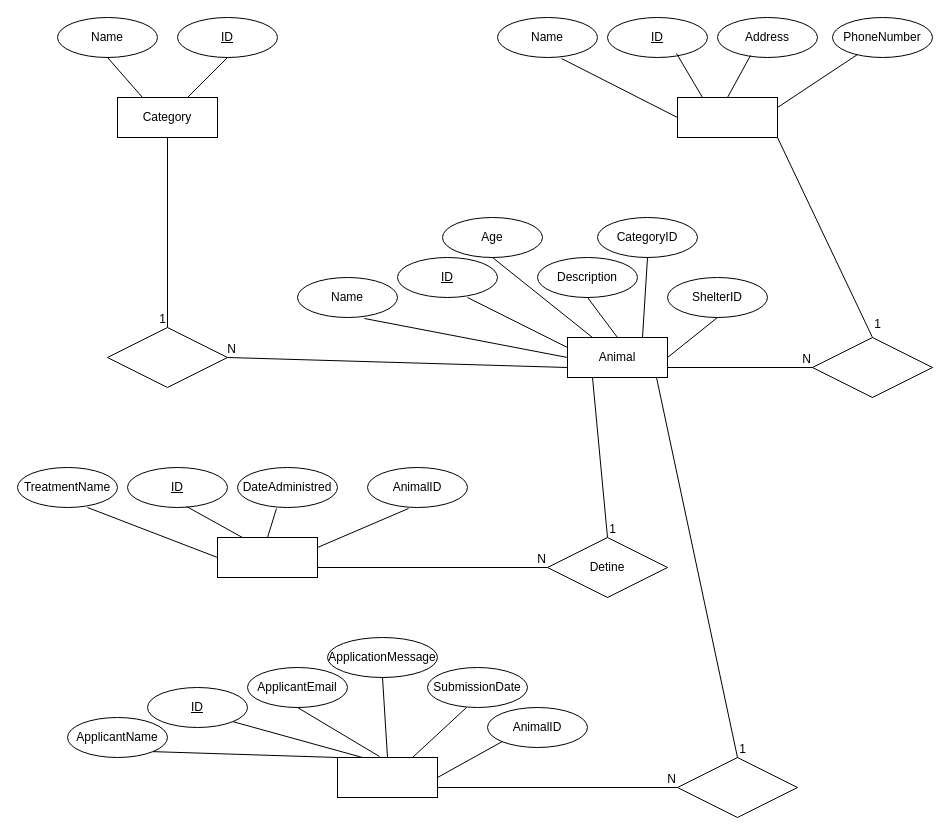
Image size: 950x835. Some labels were removed from this diagram. The centre of each missing label's shape, as x and y in pixels:
"AdoptionApplication" belongs at pixel 387 777.
"Are" belongs at pixel 167 357.
"Gazduieste" belongs at pixel 872 367.
"MedicalRecord" belongs at pixel 267 557.
"Primeste" belongs at pixel 737 787.
"Shelter" belongs at pixel 727 117.
